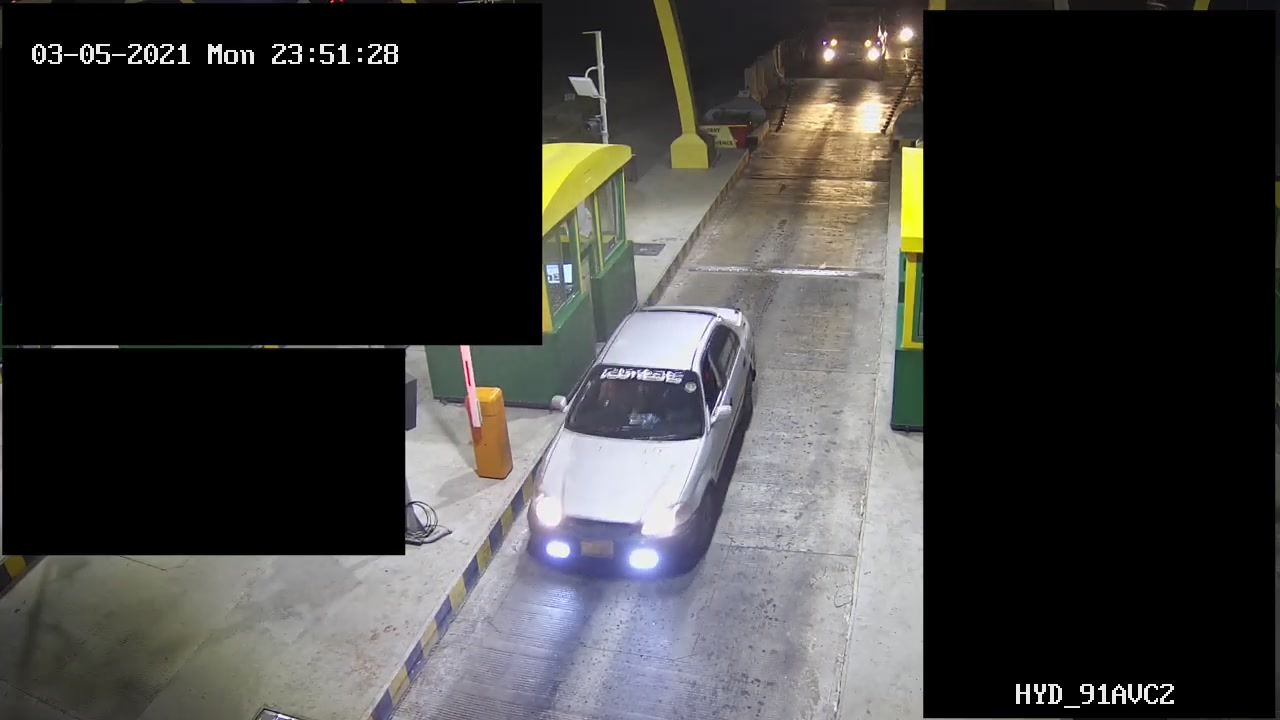F1: (520, 298, 763, 598)
